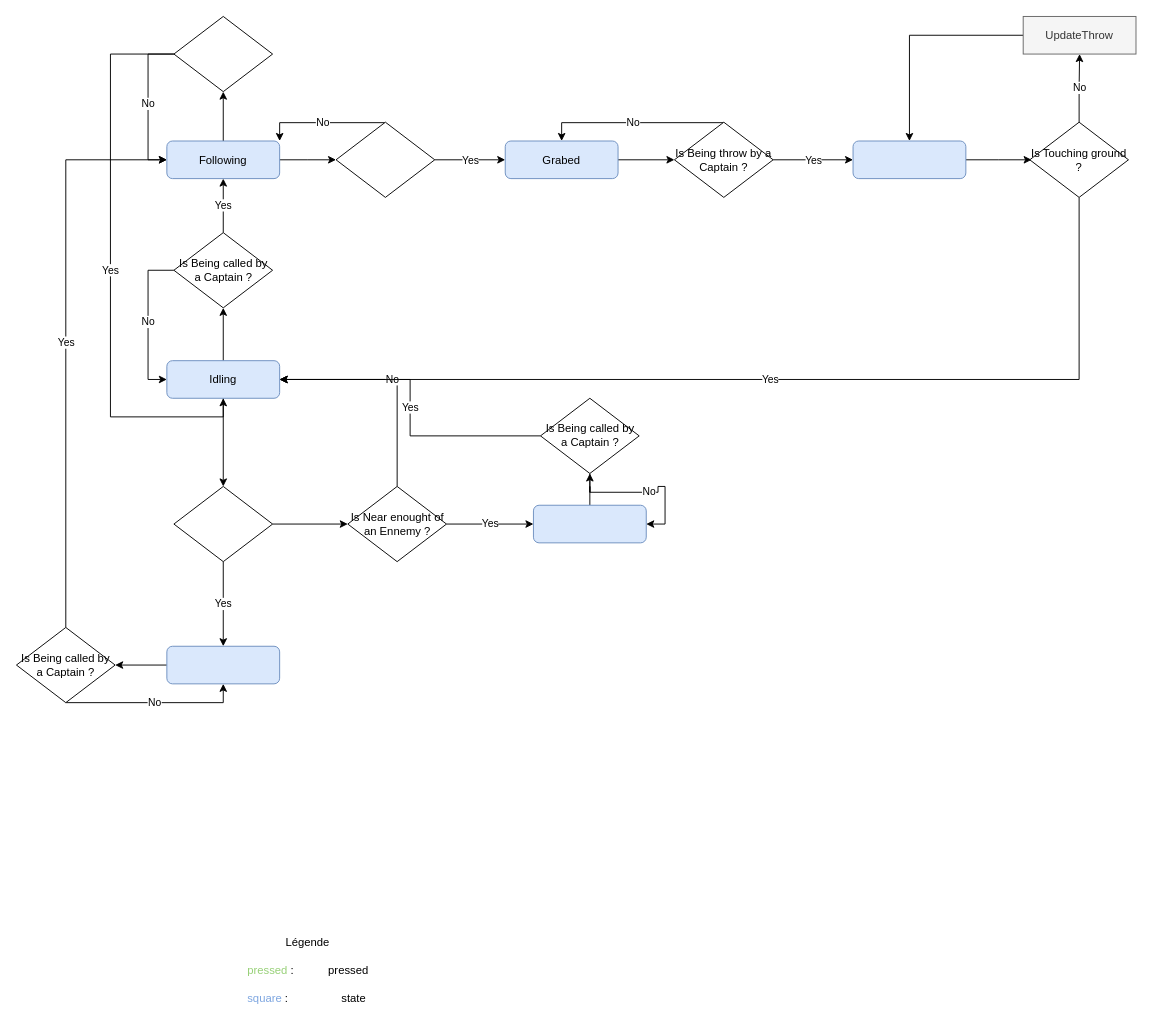
This 1152x1029 diagram has some shape labels left out. Here are the shapes that lost their labels. From the top down, the centre of each, then its label:
At point (223, 54): "Is Being disband by a Captain ?".
At point (385, 159): "Is Being grab by a Captain ?".
At point (909, 159): "Throwed".
At point (223, 524): "Is Near enought of an Item ?".
At point (589, 523): "Fighting".
At point (223, 664): "Carrying".
